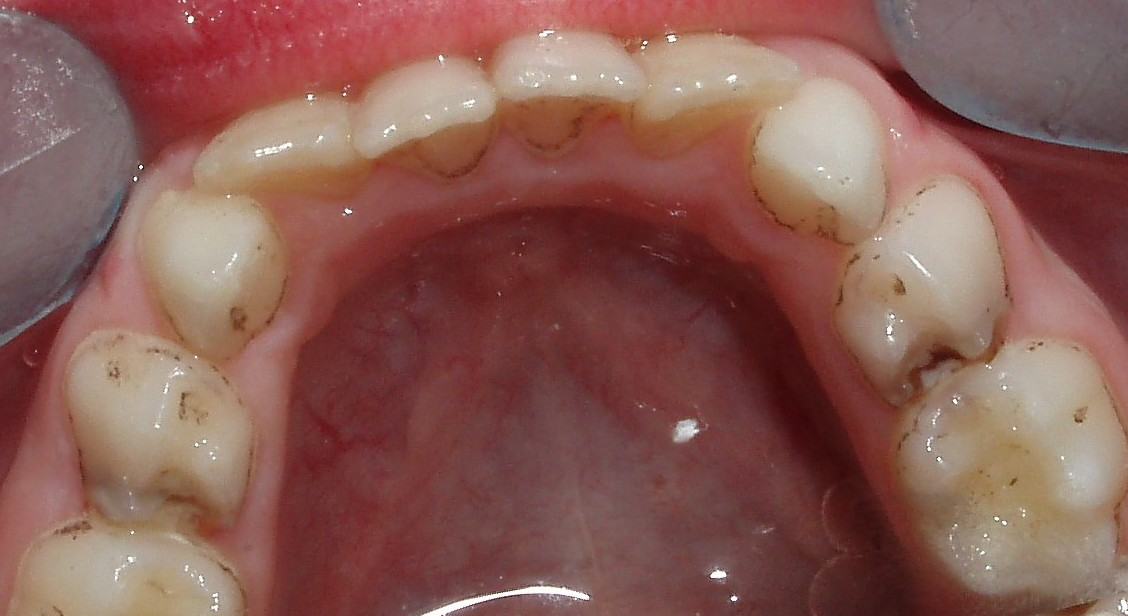UL1BC_decay: (832, 179, 1009, 408)
UL2BC_decay: (891, 339, 1125, 599)
ULCI_decay: (497, 33, 641, 154)
ULC_decay: (749, 80, 889, 245)
ULLI_healthy: (639, 34, 796, 149)
UR1BC_decay: (66, 331, 252, 526)
UR2BC_decay: (17, 534, 248, 616)
URCI_decay: (360, 58, 495, 180)
URC_decay: (138, 195, 286, 356)
URLI_healthy: (199, 100, 358, 195)
